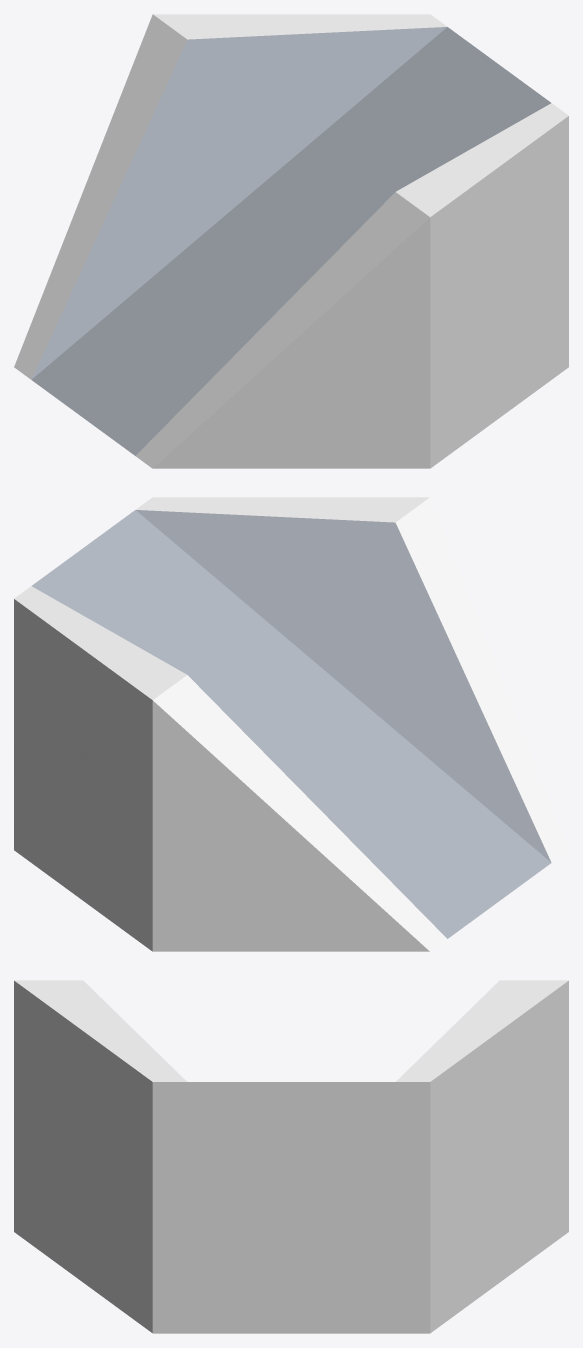
File: snow_road_downhill2.fbx
3 renders of one model, top to bottom at view 1: azimuth 30°, elevation 25°; view 2: azimuth 150°, elevation 25°; view 3: azimuth 270°, elevation 25°, orthographic.
Visible parts, largest first — view 1: Cylinder; view 2: Cylinder; view 3: Cylinder.
Part boxes in pixels (box(x1,y1,x2,y2)): Cylinder: box(14, 14, 568, 468); Cylinder: box(14, 497, 568, 951); Cylinder: box(14, 980, 568, 1333).
Size of the model in its own units: 1.73 by 1 by 2.
